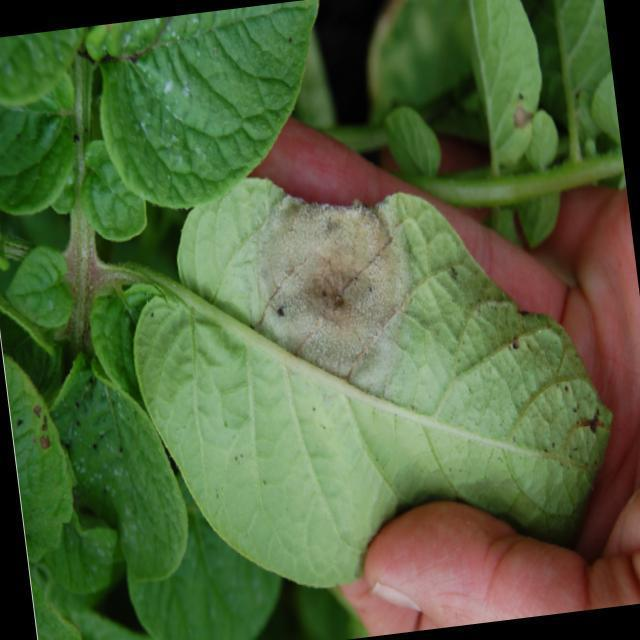Healthy Leaf: (75, 137, 152, 251), (0, 230, 73, 342)
